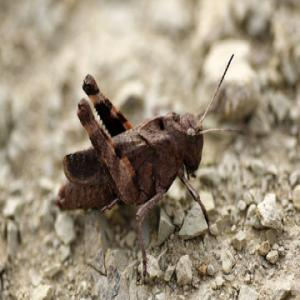locust: (58, 78, 242, 224)
